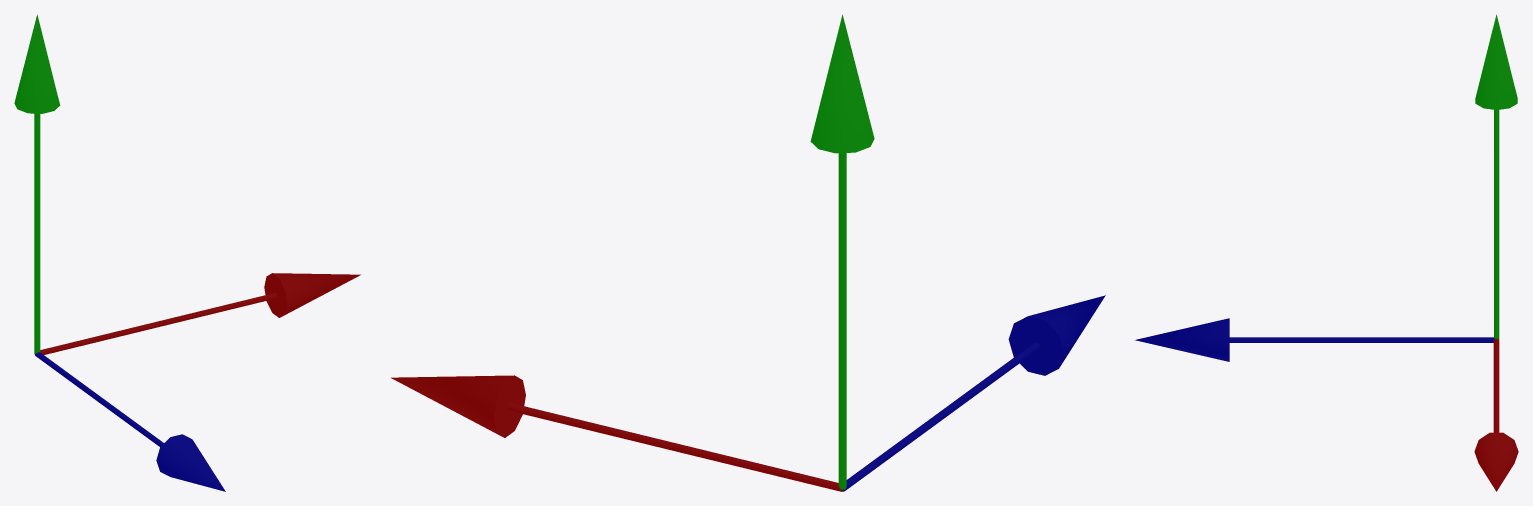
Rendered from ArrowCenter.DAE.
3 renders of one model, left to right at view 1: azimuth 30°, elevation 25°; view 2: azimuth 150°, elevation 25°; view 3: azimuth 270°, elevation 25°, orthographic. The views are drawn at different scales.
Visible parts, largest first — view 1: YAXIS, XAXIS, ZAXIS; view 2: YAXIS, XAXIS, ZAXIS; view 3: ZAXIS, YAXIS, XAXIS.
Boxes of the visible parts, left/top/right/bottom form: YAXIS: left=14, top=14, right=60, bottom=353; XAXIS: left=40, top=273, right=360, bottom=354; ZAXIS: left=35, top=352, right=225, bottom=491; YAXIS: left=810, top=14, right=874, bottom=489; XAXIS: left=391, top=375, right=842, bottom=491; ZAXIS: left=842, top=295, right=1105, bottom=491; ZAXIS: left=1135, top=318, right=1494, bottom=361; YAXIS: left=1475, top=14, right=1517, bottom=339; XAXIS: left=1474, top=338, right=1518, bottom=491.
Size of the model in its own units: 1.81 by 1.82 by 1.8.
